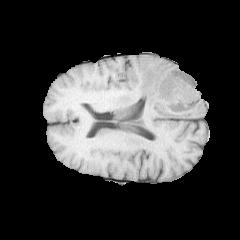glioma: (139, 64, 201, 112)
